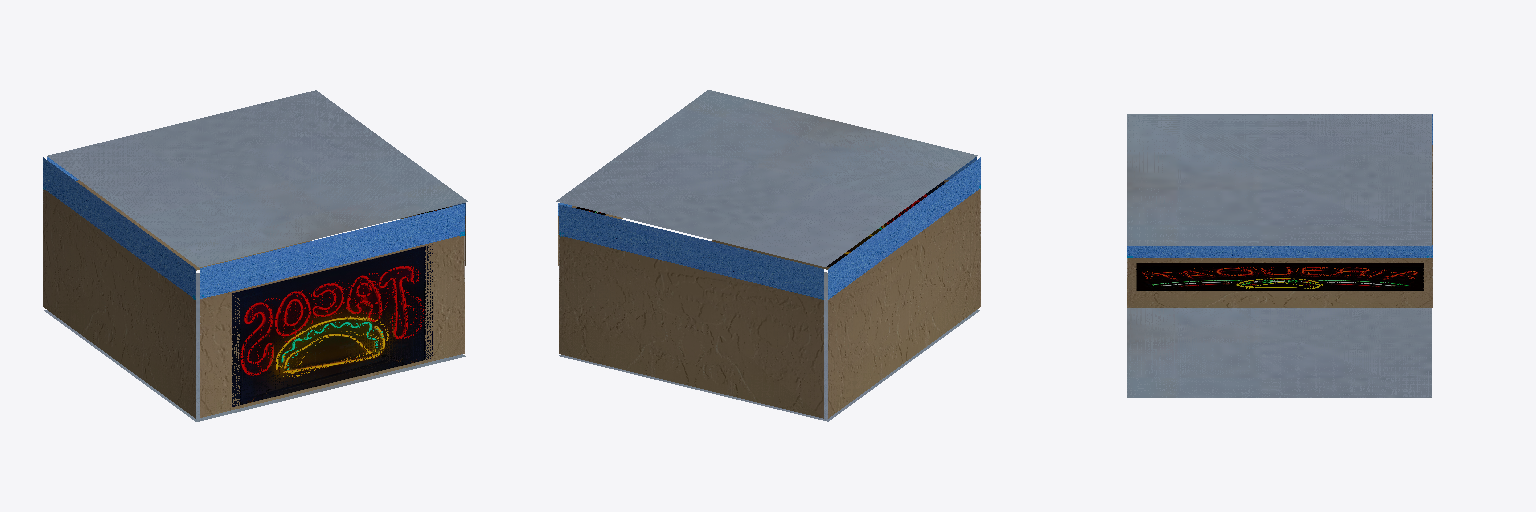
3 views of the same model, side by side, from view 1: azimuth 30°, elevation 25°; view 2: azimuth 150°, elevation 25°; view 3: azimuth 270°, elevation 25° (orthographic).
Parts seen in each view (by area): view 1: Box015, Box010, Box014, Box012, Box013; view 2: Box015, Box013, Box014, Box012, Box010; view 3: Box015, Box012, Box016.
Boxes of the visible parts, x1,y1,x2,y2 form: Box015: [47, 90, 467, 267]; Box010: [200, 204, 464, 417]; Box014: [43, 157, 195, 418]; Box012: [44, 273, 465, 421]; Box013: [47, 157, 311, 270]; Box015: [556, 90, 977, 266]; Box013: [559, 204, 823, 418]; Box014: [828, 157, 980, 418]; Box012: [559, 272, 979, 421]; Box010: [712, 157, 976, 269]; Box015: [1127, 114, 1431, 245]; Box012: [1127, 308, 1431, 397]; Box016: [1127, 245, 1432, 307].
Size of the model in its own units: 111 by 60.13 by 109.
4 materials, 4 textured.